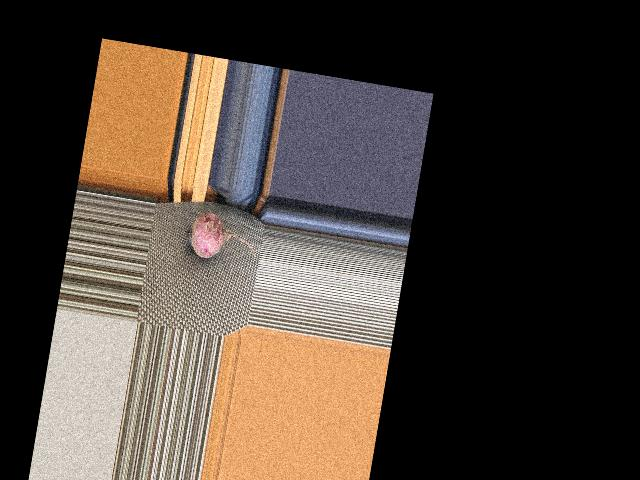beet: (182, 208, 259, 265)
